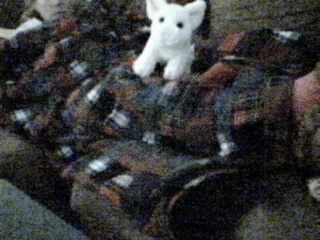piggy: (131, 1, 208, 81)
